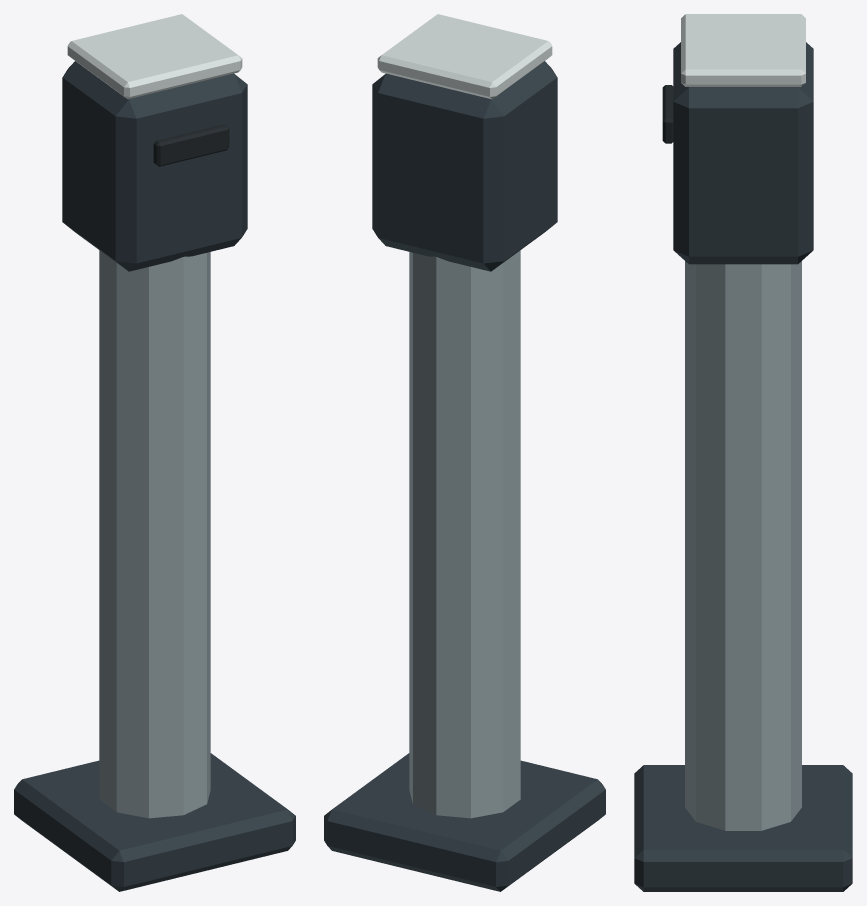
The model's file is Cigarette_Disposal_Stand.glb.
The picture shows the model from 3 angles, left to right: view 1: azimuth 30°, elevation 25°; view 2: azimuth 150°, elevation 25°; view 3: azimuth 270°, elevation 25°; orthographic projection. The views are drawn at different scales.
Visible parts, largest first — view 1: Cigarette_Disposal_Stand; view 2: Cigarette_Disposal_Stand; view 3: Cigarette_Disposal_Stand.
Boxes of the visible parts, box(x1,y1,x2,y2) form: Cigarette_Disposal_Stand: box(14, 14, 295, 891); Cigarette_Disposal_Stand: box(324, 14, 605, 891); Cigarette_Disposal_Stand: box(634, 14, 852, 891).
Size of the model in its own units: 0.28 by 1.14 by 0.28.
